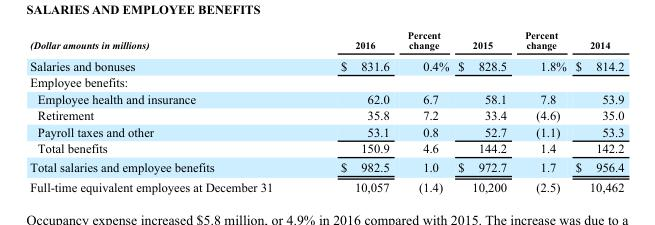table: (29, 28, 623, 193)
table column: (29, 28, 306, 193), (306, 28, 397, 193), (452, 28, 515, 193), (397, 28, 452, 193), (515, 28, 570, 193), (570, 28, 623, 193)
table column header: (29, 28, 623, 54)
table projected row header: (29, 73, 623, 90)
table row: (29, 28, 623, 54), (29, 54, 623, 73), (29, 157, 623, 176), (29, 139, 623, 157), (29, 73, 623, 90), (29, 106, 623, 123), (29, 176, 623, 193), (29, 90, 623, 106), (29, 123, 623, 139)
